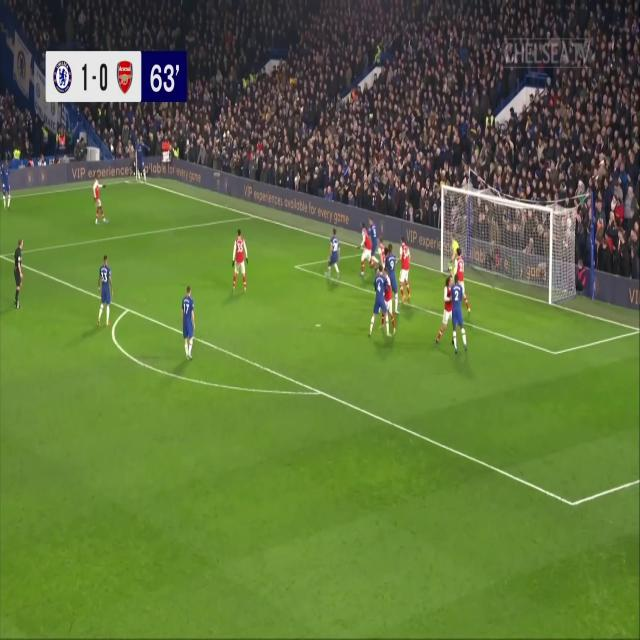GoalKeeper: (445, 232, 458, 280)
TEAM 1: (232, 228, 250, 294), (438, 278, 454, 352), (456, 249, 472, 318), (398, 238, 413, 302), (384, 268, 396, 343), (91, 176, 109, 224), (356, 222, 372, 275), (375, 233, 385, 267)
TEAM 2: (370, 266, 394, 341), (452, 273, 467, 358), (97, 256, 113, 329), (182, 285, 197, 359), (1, 146, 15, 220), (132, 134, 150, 188), (387, 242, 399, 322), (326, 232, 340, 280), (370, 214, 379, 266)
